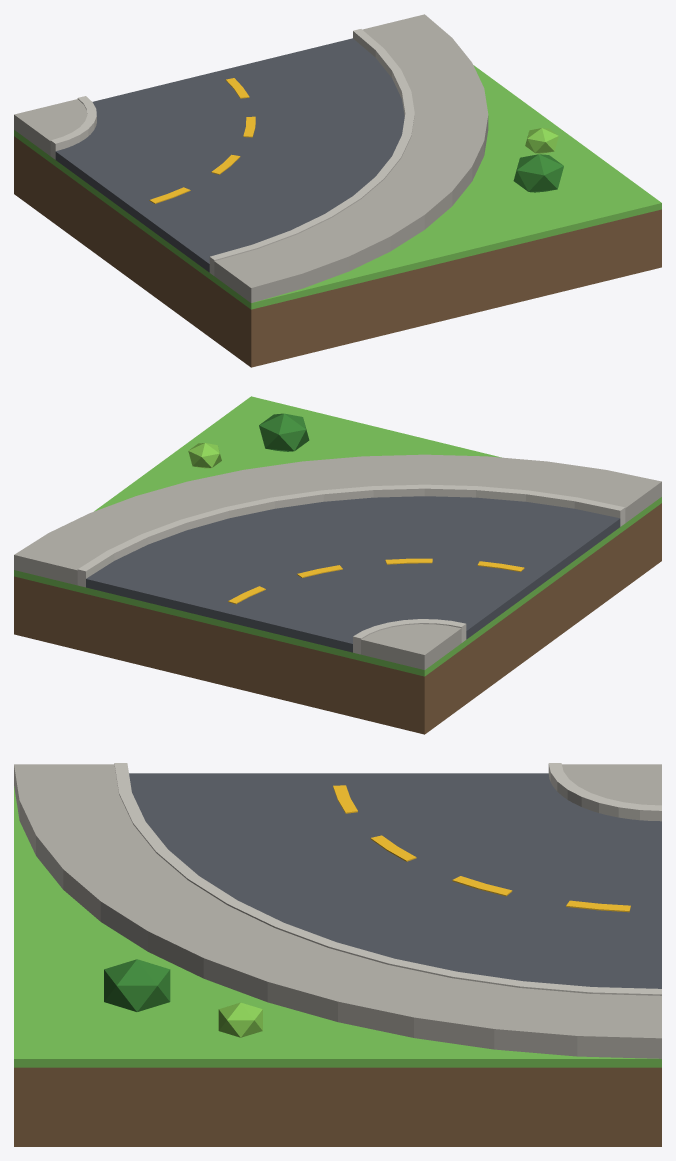
File: kit-cidade-asfalto-curva.glb
3 views of the same model, one above another, from view 1: azimuth 30°, elevation 25°; view 2: azimuth 150°, elevation 25°; view 3: azimuth 270°, elevation 25° (orthographic). The views are drawn at different scales.
Visible parts, largest first — view 1: corpo; view 2: corpo; view 3: corpo.
Boxes of the visible parts, left/top/right/bottom form: corpo: left=14, top=14, right=661, bottom=367; corpo: left=14, top=396, right=661, bottom=734; corpo: left=14, top=763, right=661, bottom=1146.
Size of the model in its own units: 2 by 0.4619 by 2.
